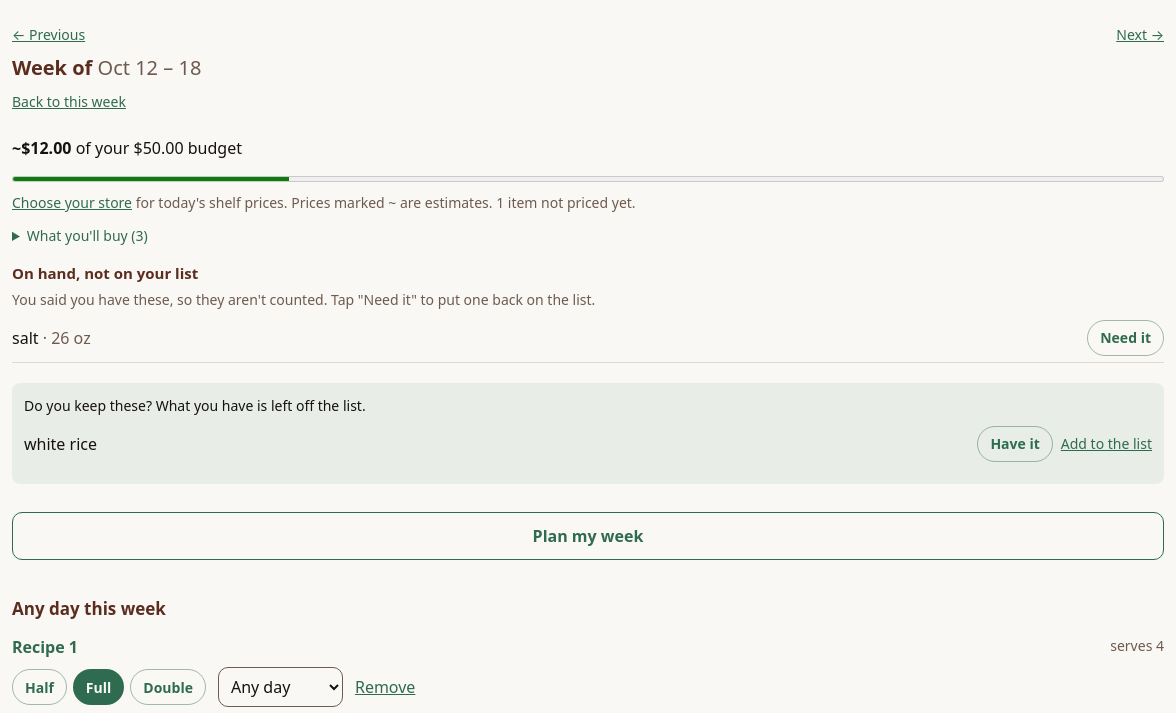
Test: pantry items the plan needs (TYL-136) › stops asking once it’s left on the list
This screenshot has width=1176, height=713.
Click the button with aria-label "Add white rice to the list".
click(1106, 444)  # box [1061,422,1152,466]
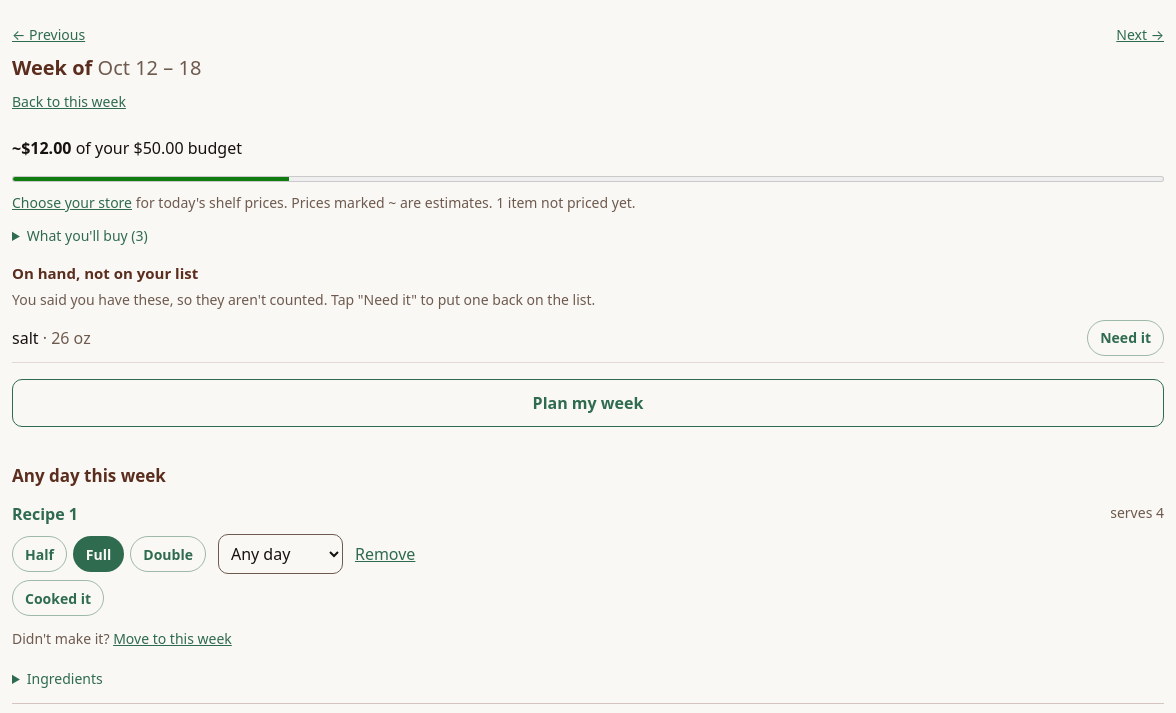
Expected: the text "Do you keep these?" is gone
